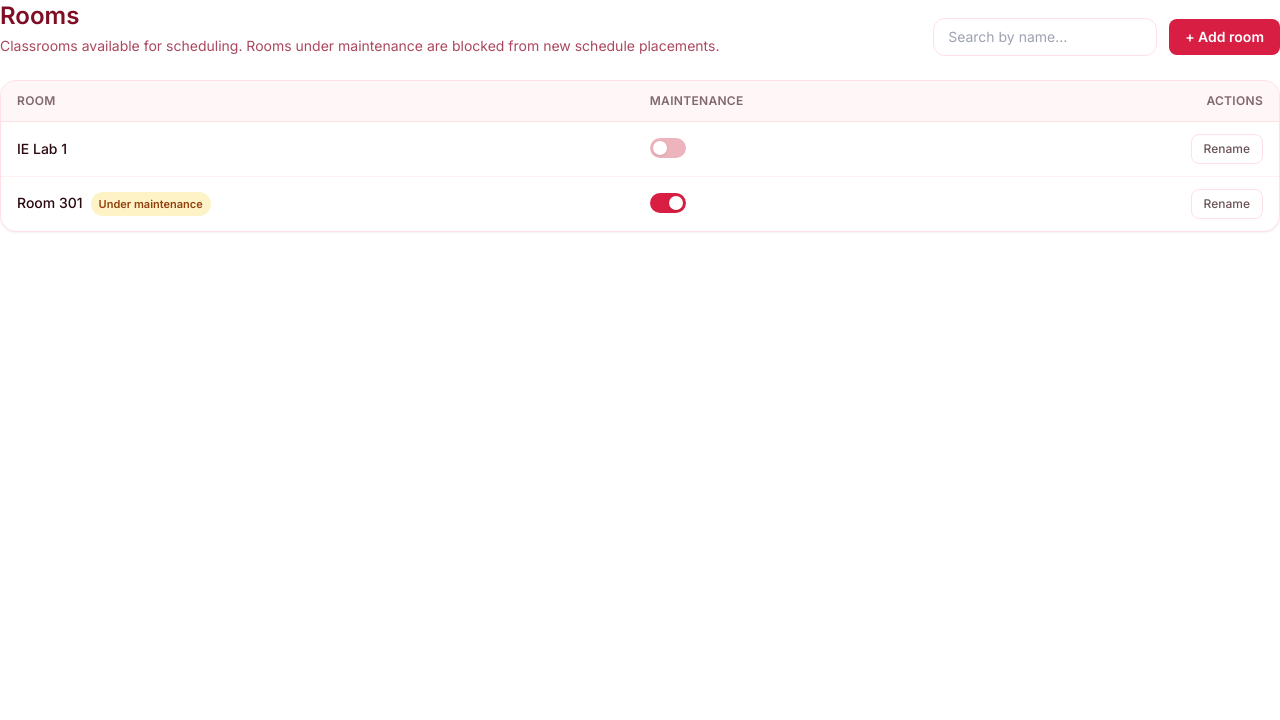
it: RoomsPage — create › opens the dialog from "+ Add room" and creates a room without a reload
Click the button "+ Add room": (1225, 37) [1169,19,1279,55]
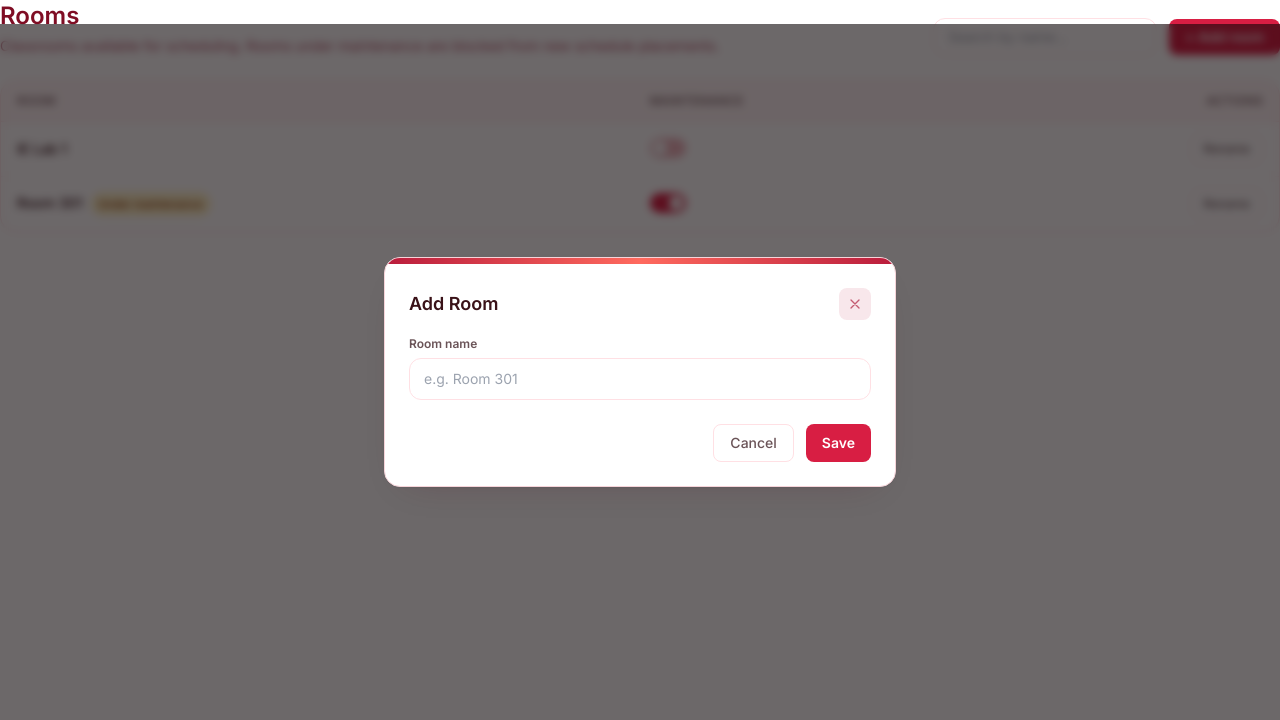
Expected: the dialog shows "Add Room", [409,293,498,314]
In the field labelled "Room name": (640, 379) [409,358,871,400], type "IE Lab 9"
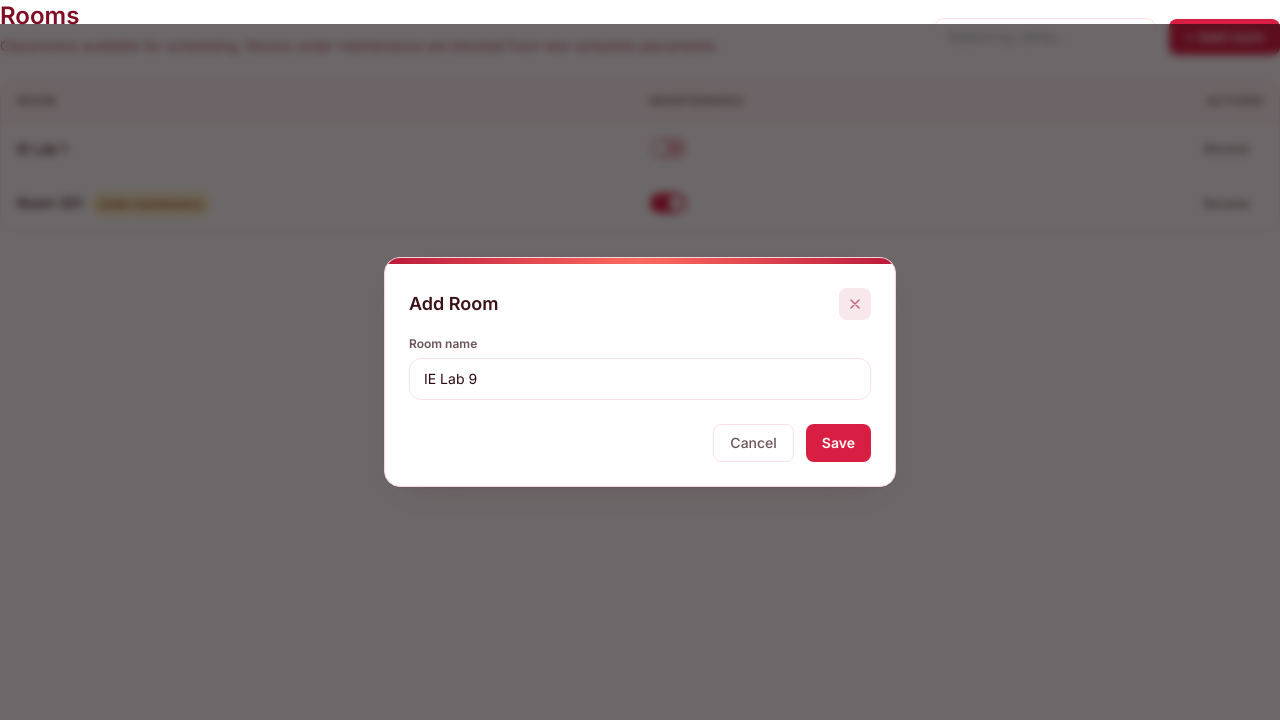
Click the button "Save": (838, 443) [806,424,871,462]
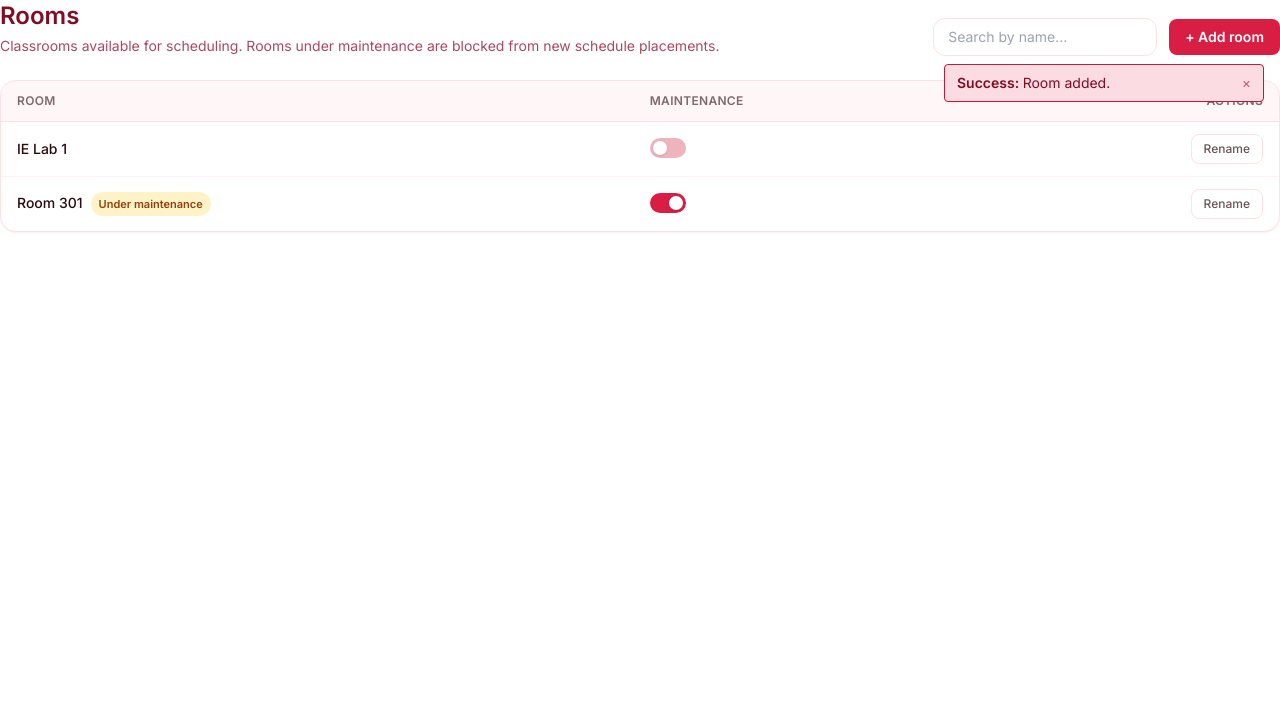
Expected: the text "Room added." is shown, [1023,74,1110,91]
Expected: the dialog is gone
